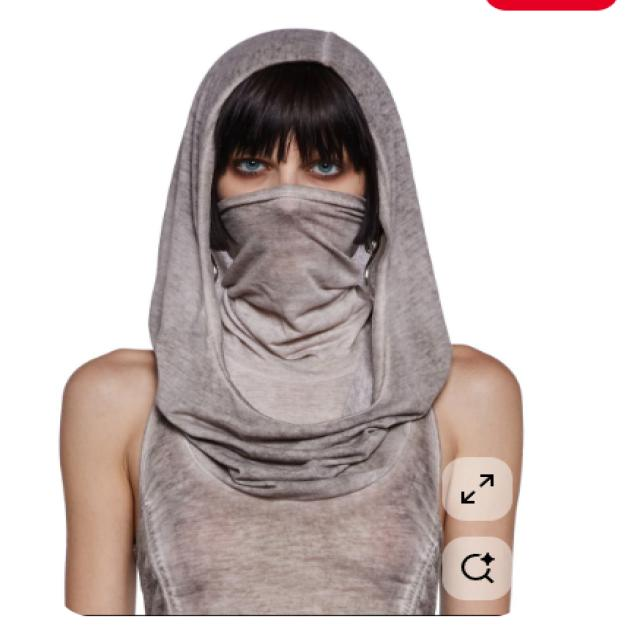4_capucha: (152, 26, 452, 209)
